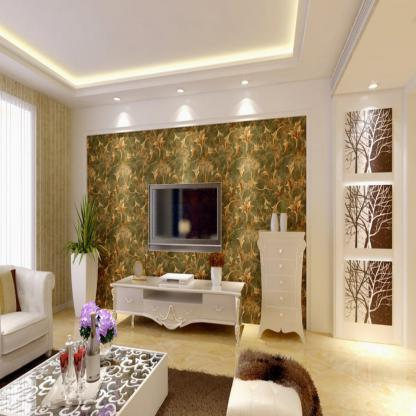sova: (2, 259, 55, 366)
tanaman: (70, 209, 100, 312)
tv: (147, 184, 224, 253)
